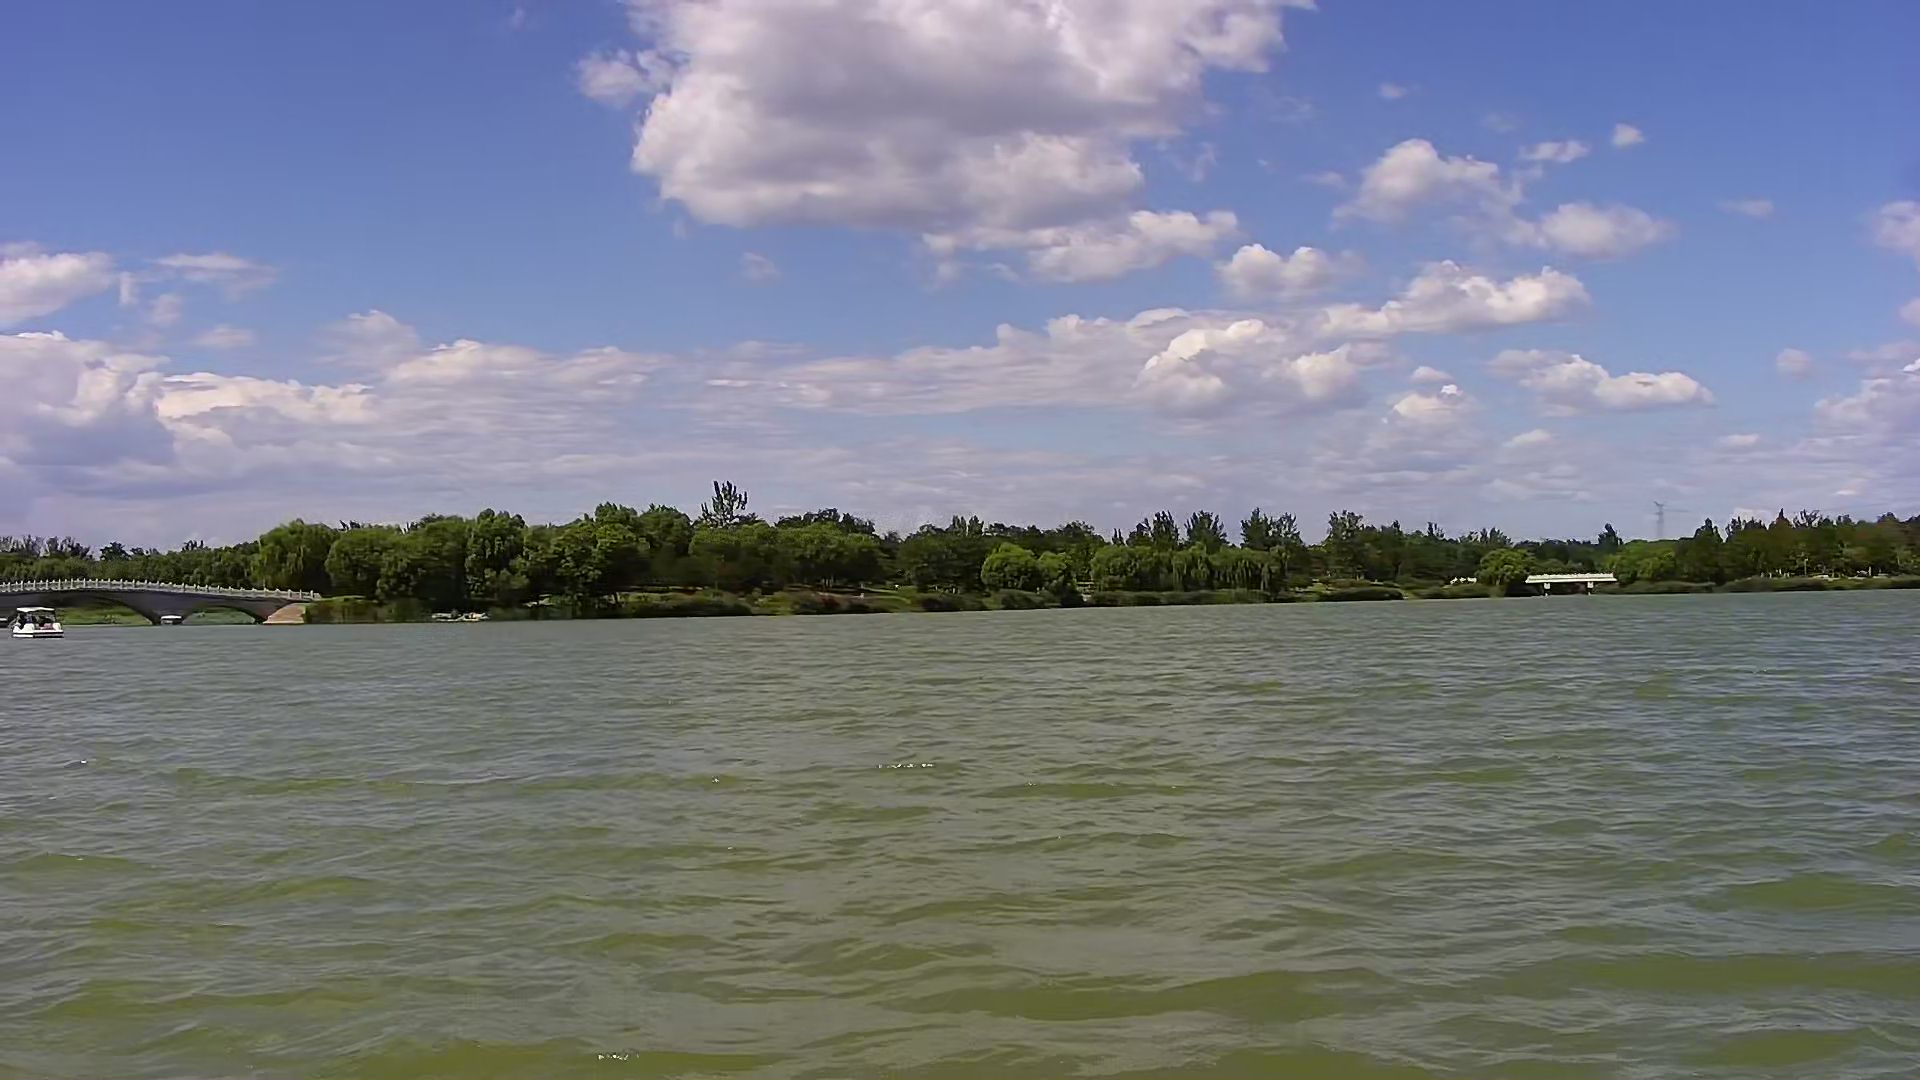boat: (13, 597, 80, 651)
bridge: (1, 568, 324, 624)
